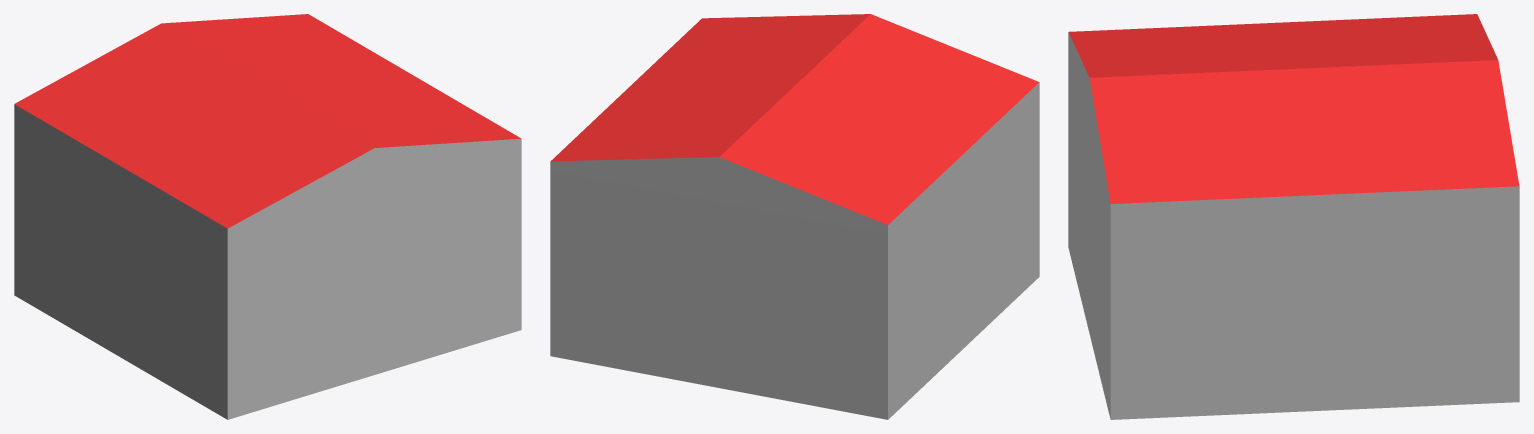
The model's file is DEBY_LOD2_4781154.dae.
3 views of the same model, side by side, from view 1: azimuth 30°, elevation 25°; view 2: azimuth 150°, elevation 25°; view 3: azimuth 270°, elevation 25° (orthographic). The views are drawn at different scales.
Size of the model in its own units: 3.95 by 3.96 by 2.48.
